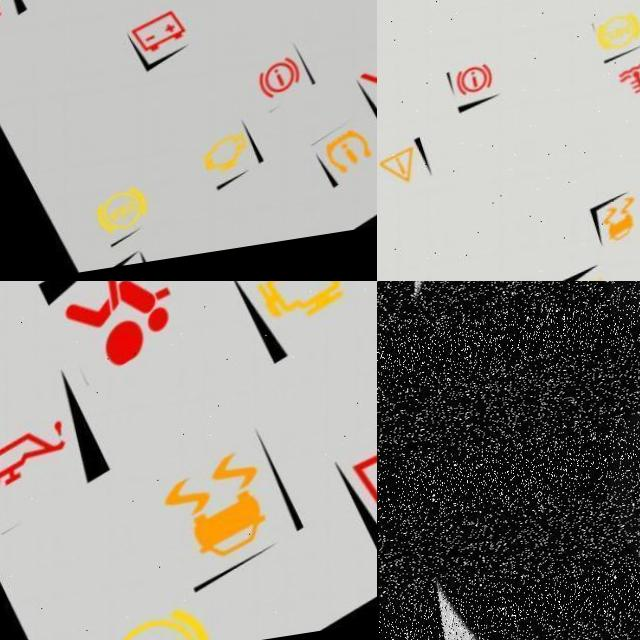Electronic Power Steering: (530, 281, 640, 640)
